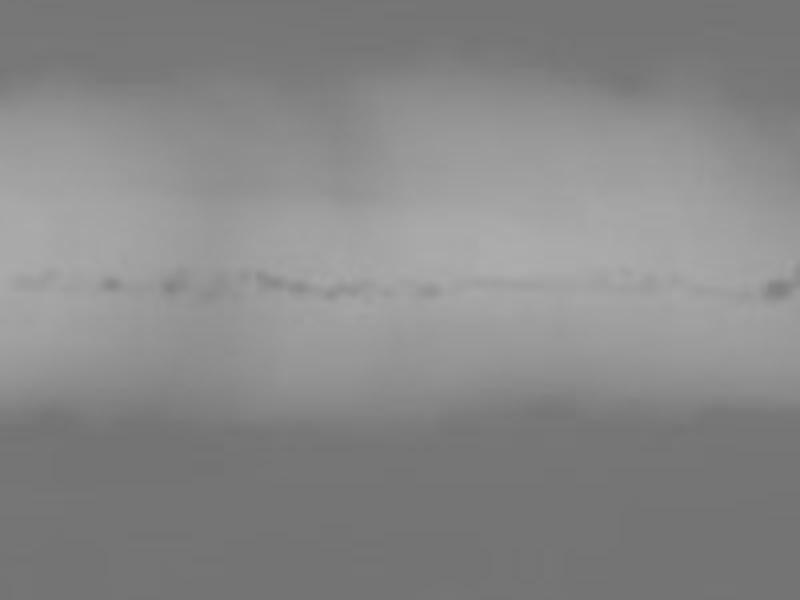defect: (760, 276, 791, 304), (159, 265, 188, 290), (258, 268, 284, 295), (415, 279, 445, 302), (290, 276, 318, 297), (9, 270, 33, 294), (35, 265, 58, 290), (345, 276, 373, 296), (98, 273, 121, 293), (233, 262, 253, 282), (323, 280, 341, 301), (380, 283, 401, 301), (201, 287, 219, 304), (215, 271, 232, 289)
